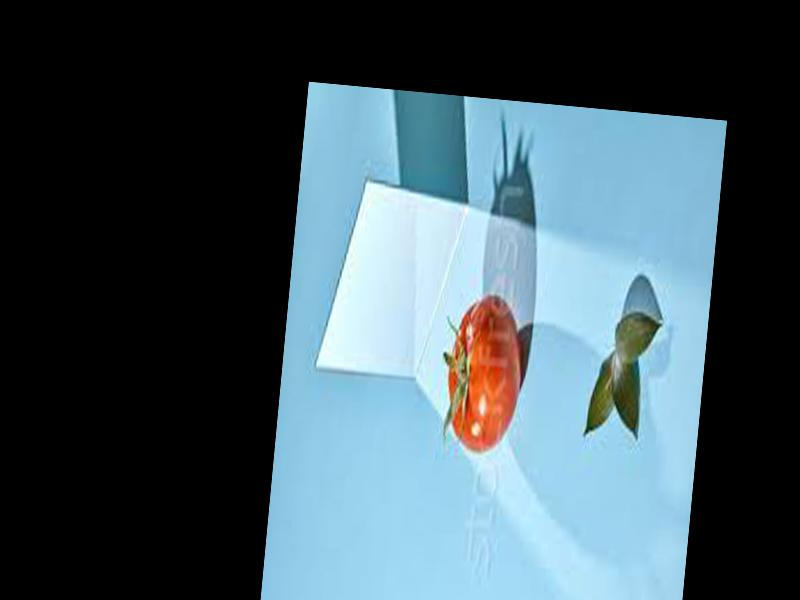Tomato: (440, 291, 528, 460)
